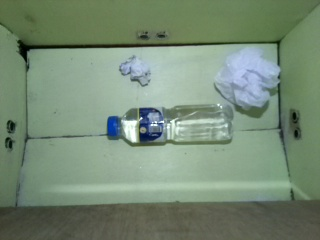bottle: (106, 102, 234, 146)
paper: (213, 47, 282, 114), (119, 55, 152, 86)
